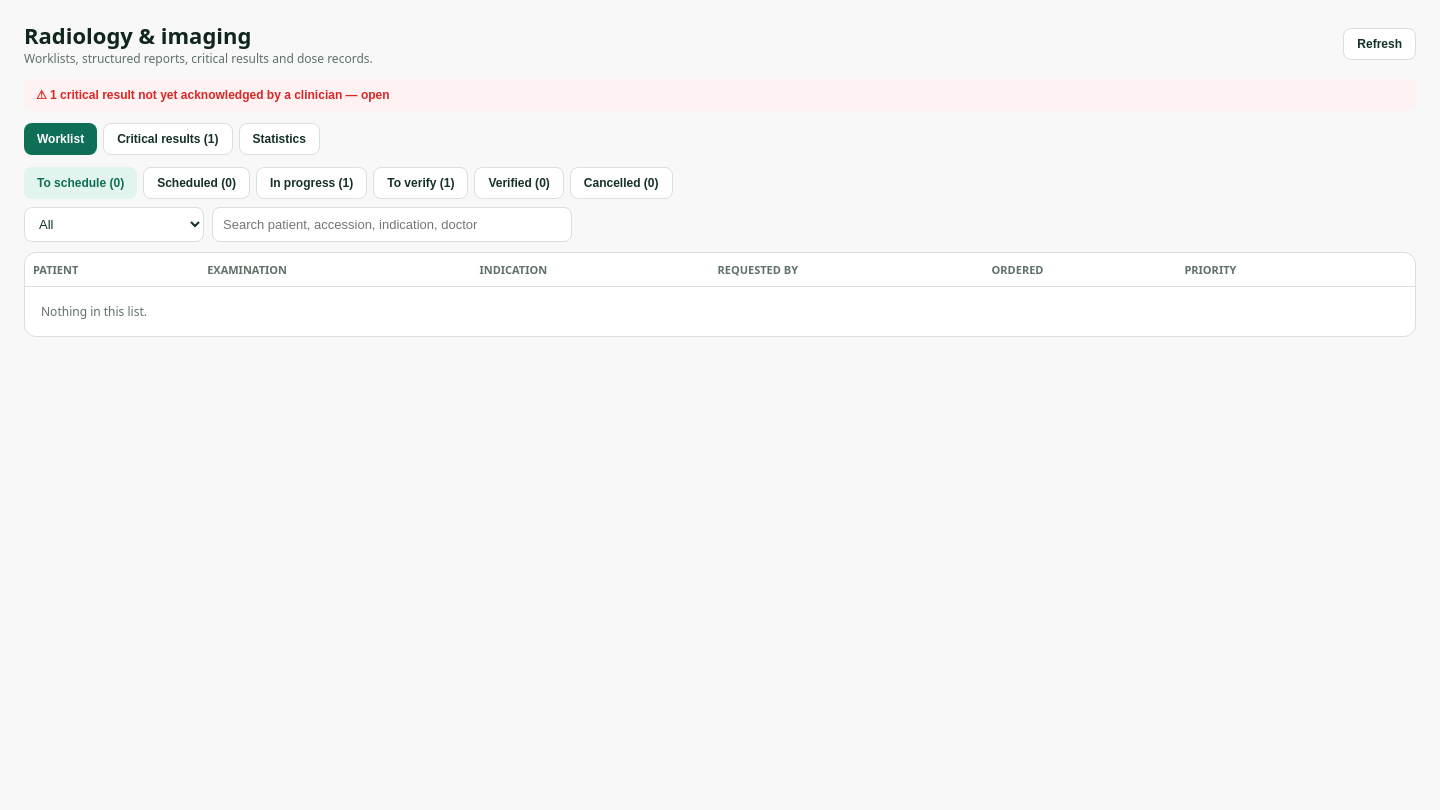
Test case: radiology screen › reports with the obstetric template, suggests critical, and links to PACS by accession
The image size is (1440, 810).
Later steps or results of the test are not shown.
Step 1. Click the button "In progress (1)" → (312, 183), box 256,167 -> 367,199
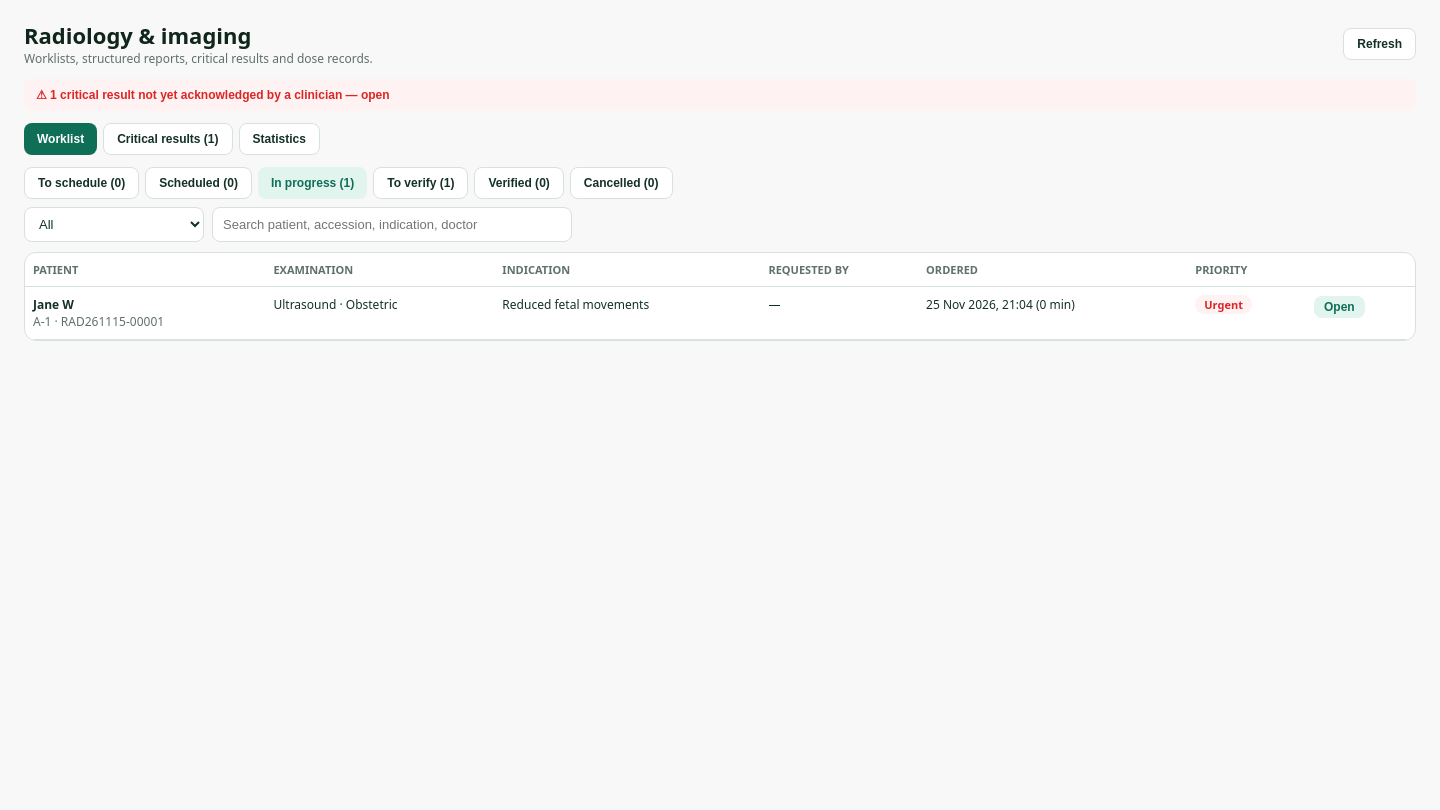
Step 2. Click the button "Open" → (1339, 307), box 1314,296 -> 1365,318
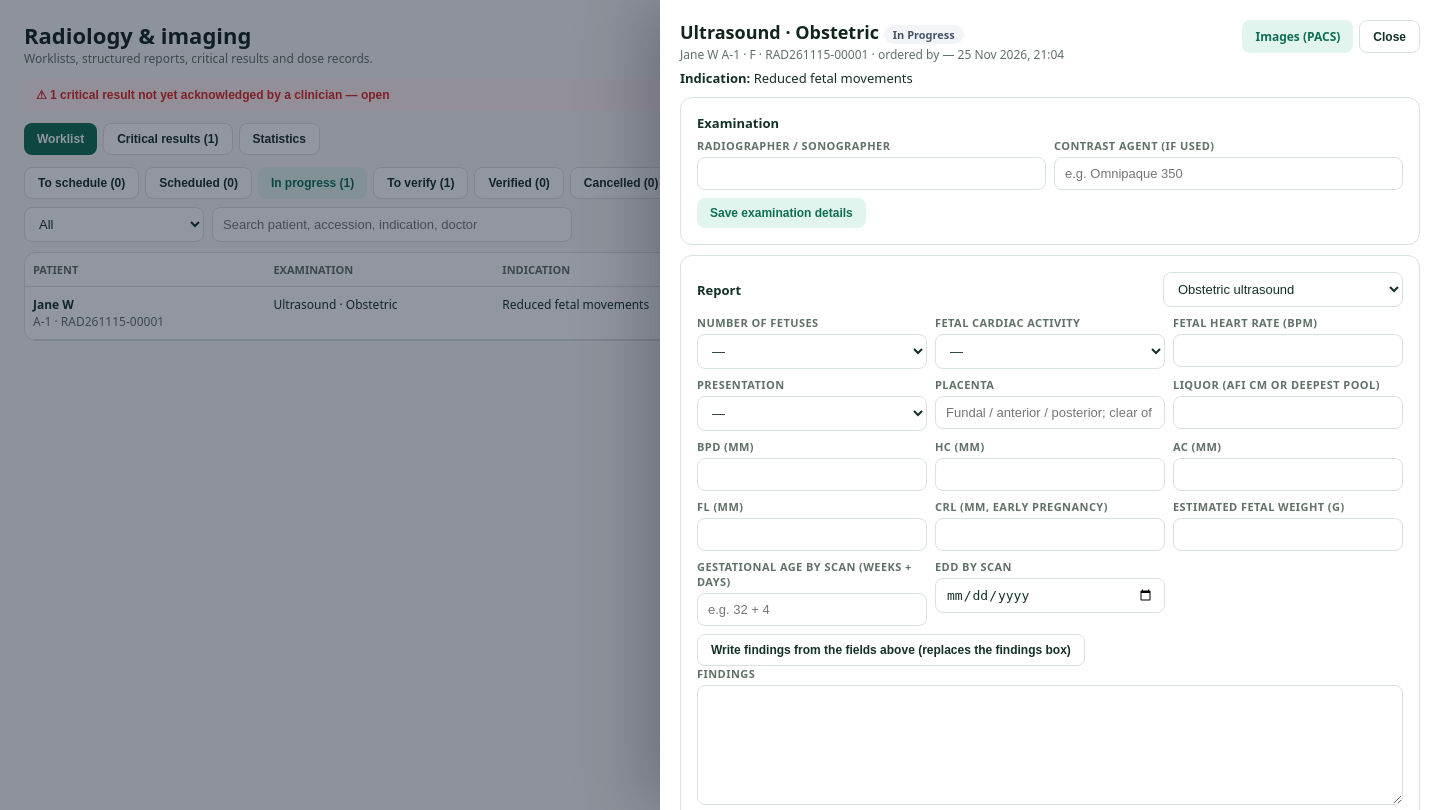
Step 3. Select "Absent" in the dropdown labelled "Fetal cardiac activity" → (1050, 352), box 935,334 -> 1165,369
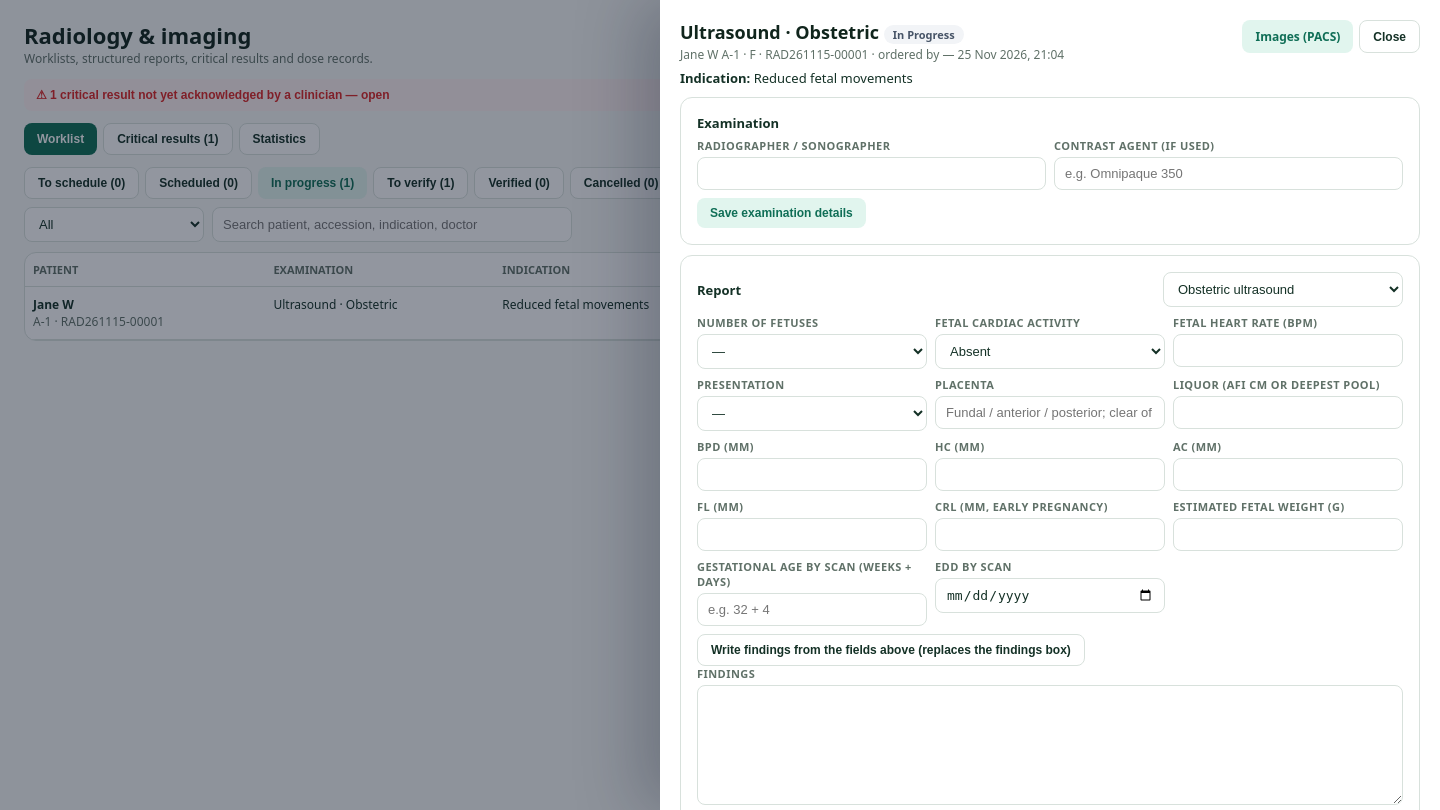
Step 4. Click the button "Write findings from the fields above" → (891, 650), box 697,634 -> 1085,666
(page scrolled)
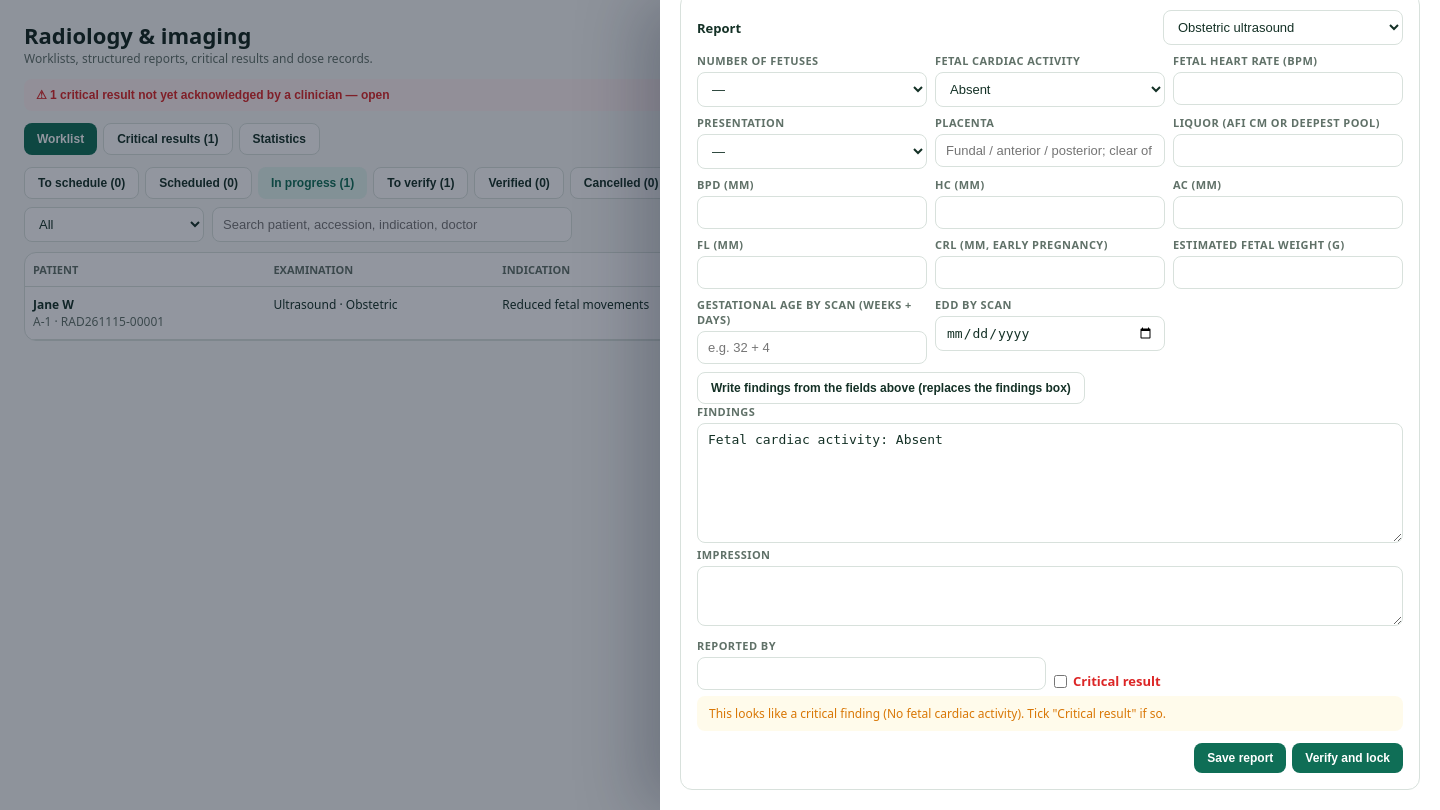
Check: the text box labelled "Findings" holds "Fetal cardiac activity: Absent", box 697,423 -> 1403,543
